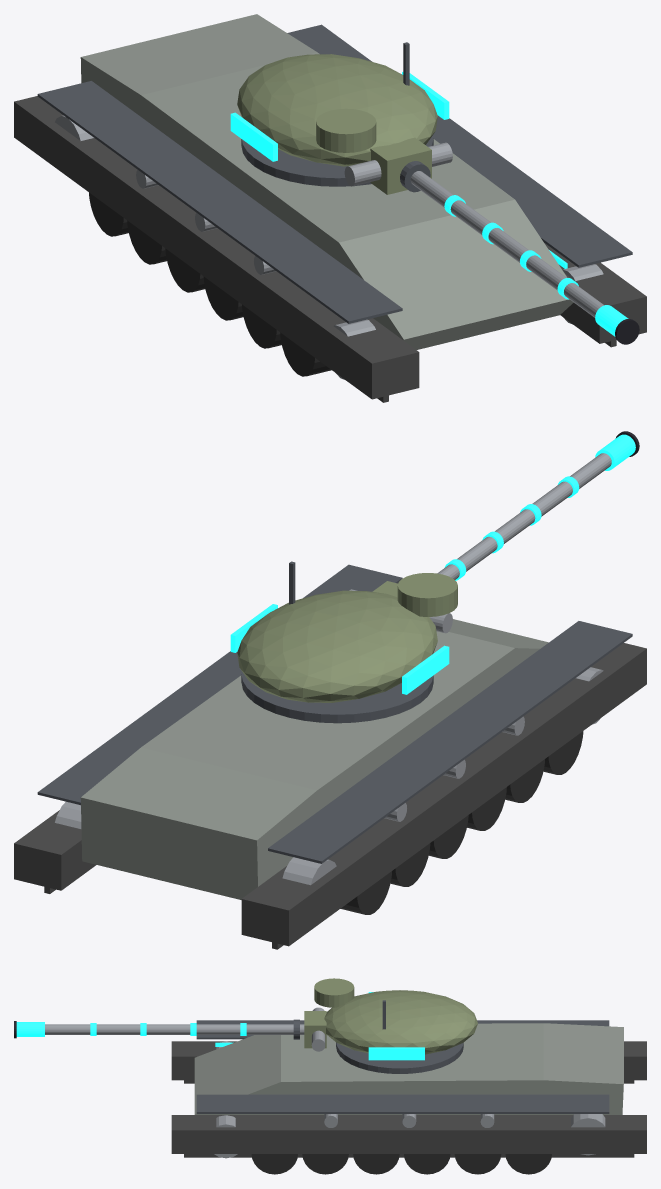
Rendered from plasma_tank.glb.
The picture shows the model from 3 angles, top to bottom: view 1: azimuth 30°, elevation 25°; view 2: azimuth 150°, elevation 25°; view 3: azimuth 270°, elevation 25°; orthographic projection. The views are drawn at different scales.
Parts seen in each view (by area): view 1: plasma_tank_hull, plasma_tank_track-1, plasma_tank_fender-1, launcher_yaw_shell, plasma_tank_fender1, barrel_tube, plasma_tank_track1, launcher_yaw_ring, launcher_yaw_cup, launcher_pitch_cradle, launcher_pitch_trunnion, launcher_yaw_cap-1 (+8 smaller); view 2: plasma_tank_hull, plasma_tank_track-1, plasma_tank_fender-1, launcher_yaw_shell, plasma_tank_fender1, plasma_tank_track1, launcher_yaw_ring, barrel_tube, launcher_yaw_cup, launcher_yaw_cap-1, rw_R_5, spk_R (+6 smaller); view 3: plasma_tank_hull, plasma_tank_track1, plasma_tank_fender1, launcher_yaw_shell, barrel_tube, plasma_tank_track-1, launcher_yaw_ring, plasma_tank_fender-1, launcher_yaw_cup, launcher_yaw_cap1, rw_L_1, rw_L_2 (+10 smaller).
Part boxes in pixels (bbox=[...]): plasma_tank_hull: bbox=[80, 14, 573, 349]; plasma_tank_track-1: bbox=[14, 96, 419, 399]; plasma_tank_fender-1: bbox=[37, 81, 402, 323]; launcher_yaw_shell: bbox=[237, 54, 437, 166]; plasma_tank_fender1: bbox=[287, 24, 632, 267]; barrel_tube: bbox=[410, 171, 603, 317]; plasma_tank_track1: bbox=[544, 243, 646, 343]; launcher_yaw_ring: bbox=[241, 135, 433, 186]; launcher_yaw_cup: bbox=[316, 108, 376, 152]; launcher_pitch_cradle: bbox=[370, 137, 431, 194]; launcher_pitch_trunnion: bbox=[344, 142, 452, 186]; launcher_yaw_cap-1: bbox=[230, 112, 277, 161]; plasma_tank_hull: bbox=[80, 619, 548, 899]; plasma_tank_track-1: bbox=[241, 643, 646, 946]; plasma_tank_fender-1: bbox=[268, 621, 632, 863]; launcher_yaw_shell: bbox=[237, 590, 437, 702]; plasma_tank_fender1: bbox=[37, 564, 402, 805]; plasma_tank_track1: bbox=[14, 810, 96, 890]; launcher_yaw_ring: bbox=[241, 672, 433, 723]; barrel_tube: bbox=[437, 453, 611, 579]; launcher_yaw_cup: bbox=[397, 573, 457, 616]; launcher_yaw_cap-1: bbox=[402, 645, 449, 694]; rw_R_5: bbox=[340, 871, 391, 914]; spk_R: bbox=[282, 857, 336, 885]; plasma_tank_hull: bbox=[194, 1023, 623, 1114]; plasma_tank_track1: bbox=[171, 1115, 646, 1153]; plasma_tank_fender1: bbox=[196, 1094, 609, 1113]; launcher_yaw_shell: bbox=[324, 990, 477, 1054]; barrel_tube: bbox=[45, 1024, 304, 1034]; plasma_tank_track-1: bbox=[171, 1041, 646, 1080]; launcher_yaw_ring: bbox=[336, 1042, 463, 1073]; plasma_tank_fender-1: bbox=[196, 1020, 609, 1039]; launcher_yaw_cup: bbox=[314, 978, 354, 1007]; launcher_yaw_cap1: bbox=[368, 1047, 424, 1060]; rw_L_1: bbox=[302, 1154, 348, 1174]; rw_L_2: bbox=[353, 1154, 399, 1174].
Size of the model in its own units: 3.48 by 2.62 by 10.12.
